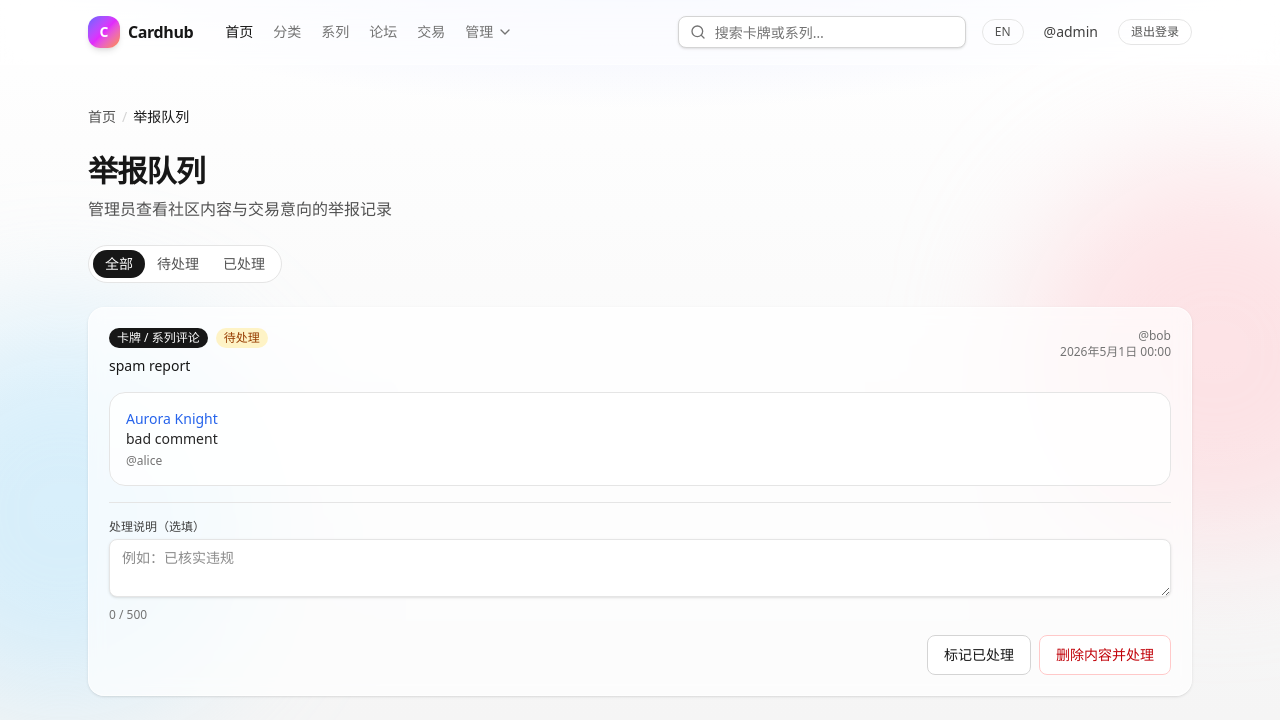
Test case: ReportsListPage resolution controls › renders pending resolve controls and opens inline remove confirmation
Expected: the text box labelled "处理说明（选填）" is shown, [109, 539, 1171, 597]
Click the button "删除内容并处理": click(1105, 655) [1039, 635, 1171, 675]
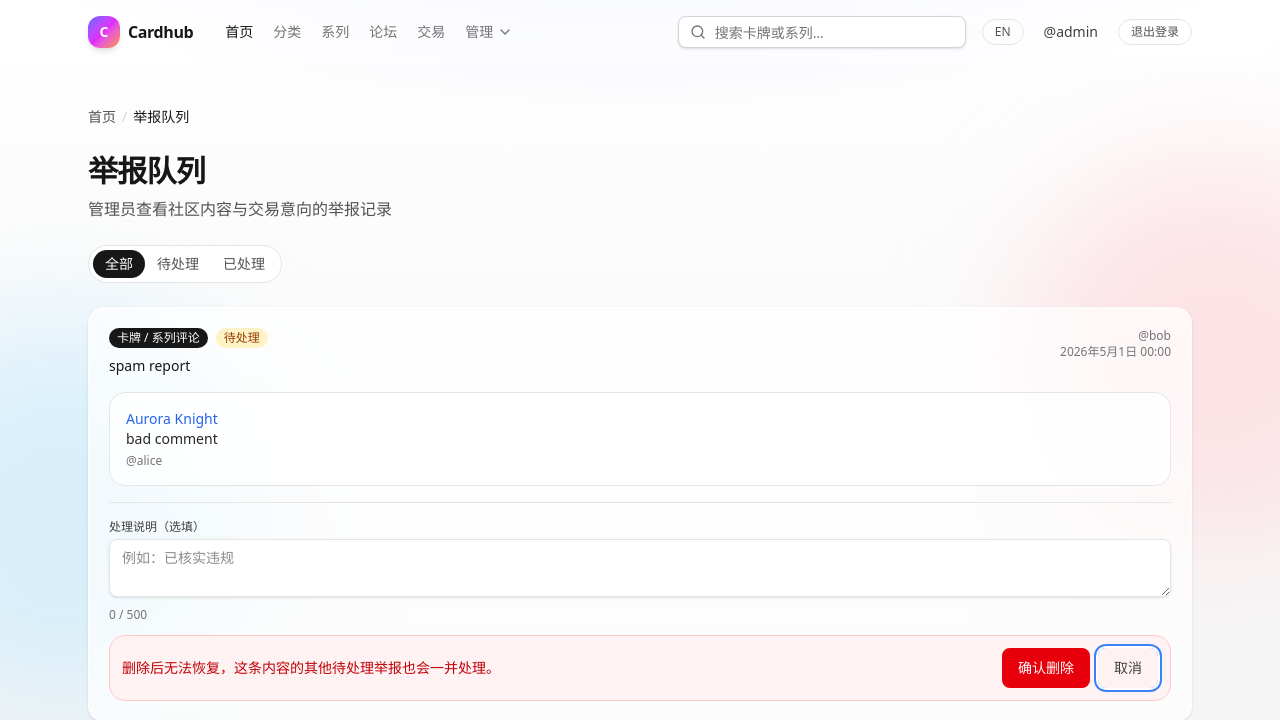
Now the dialog shows "删除后无法恢复", box [122, 658, 500, 677]
